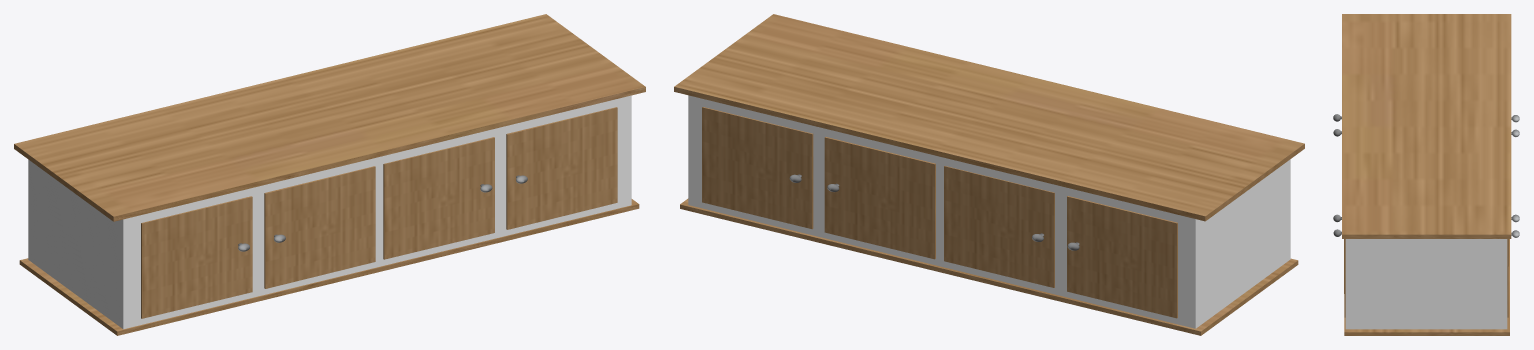
Rendered from center unit (8 cupboardas).fbx.
3 views of the same model, side by side, from view 1: azimuth 30°, elevation 25°; view 2: azimuth 150°, elevation 25°; view 3: azimuth 270°, elevation 25° (orthographic). The views are drawn at different scales.
Parts seen in each view (by area): view 1: Counter, Base, Door 1.001, Door 4.002, Door 1.003, Door 4.001, Base.001; view 2: Counter, Base, Door 3, Door 4, Door 1, Door 2, Base.001; view 3: Counter, Base, Base.001, Door 4, Door 1.003.
Part boxes in pixels (x1,y1,x2,y2): Counter: [14, 14, 645, 221]; Base: [28, 95, 631, 329]; Door 1.001: [264, 166, 375, 288]; Door 4.002: [141, 196, 252, 318]; Door 1.003: [506, 107, 617, 229]; Door 4.001: [383, 137, 494, 259]; Base.001: [19, 199, 639, 335]; Counter: [674, 14, 1304, 221]; Base: [688, 95, 1290, 328]; Door 3: [824, 137, 935, 259]; Door 4: [702, 107, 813, 229]; Door 1: [1067, 196, 1177, 318]; Door 2: [944, 166, 1054, 287]; Base.001: [680, 198, 1298, 335]; Counter: [1342, 14, 1511, 238]; Base: [1345, 239, 1507, 329]; Base.001: [1344, 239, 1509, 335]; Door 4: [1507, 239, 1508, 317]; Door 1.003: [1344, 239, 1345, 317].
Size of the model in its own units: 2.89 by 0.6296 by 1.03.
19 materials, 19 textured.
